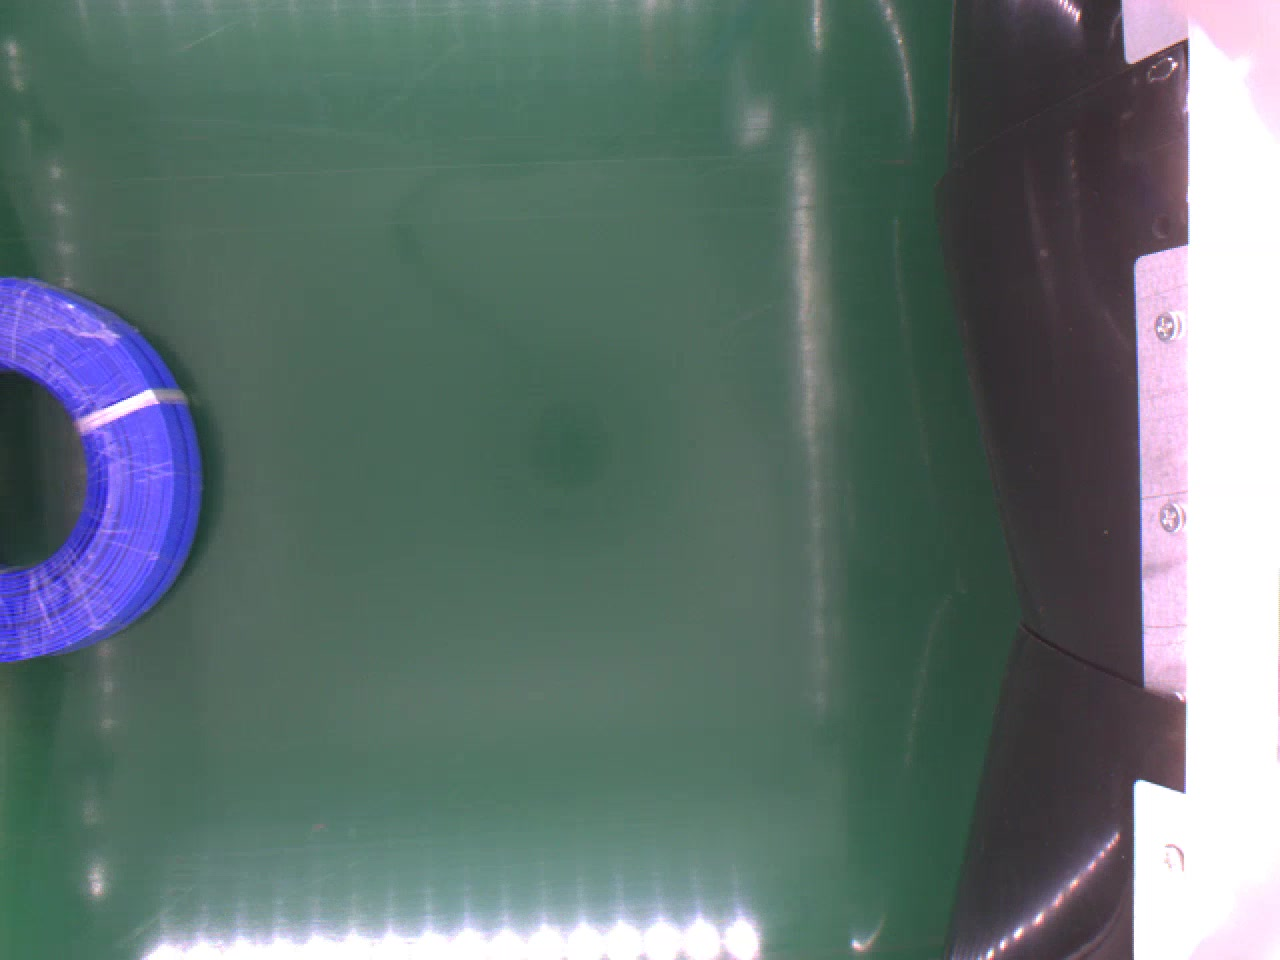blue: (0, 273, 203, 663)
